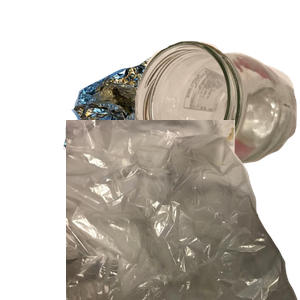glass: (132, 38, 300, 199)
metal: (61, 54, 225, 202)
plastic: (96, 120, 285, 300)
trash: (66, 120, 300, 300)
